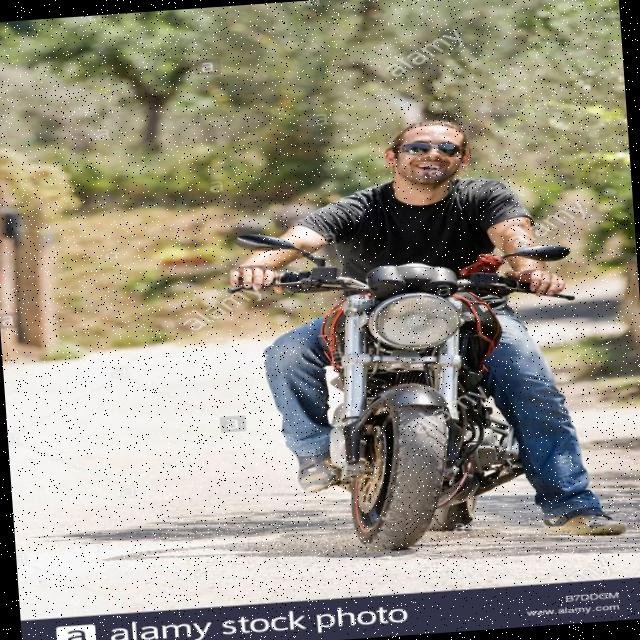No helmet: (366, 99, 487, 230)
